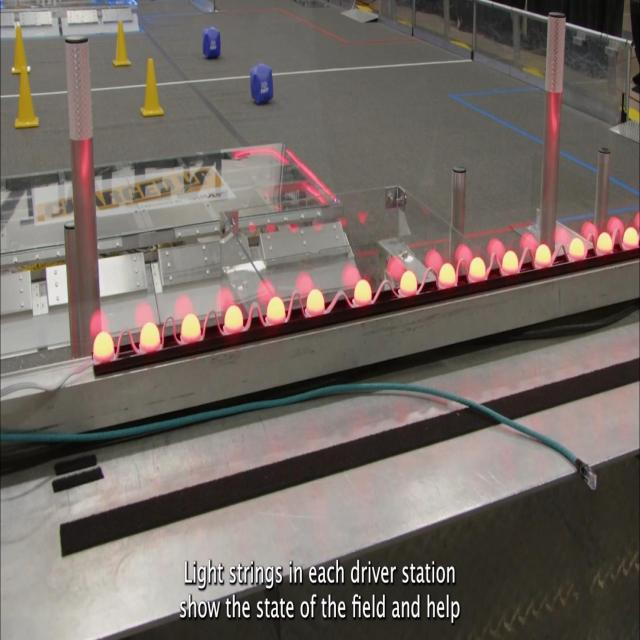frc_cone: (13, 67, 40, 132), (140, 60, 165, 118), (10, 25, 32, 75), (112, 21, 130, 68)
frc_cube: (248, 63, 274, 105), (202, 27, 224, 62)
